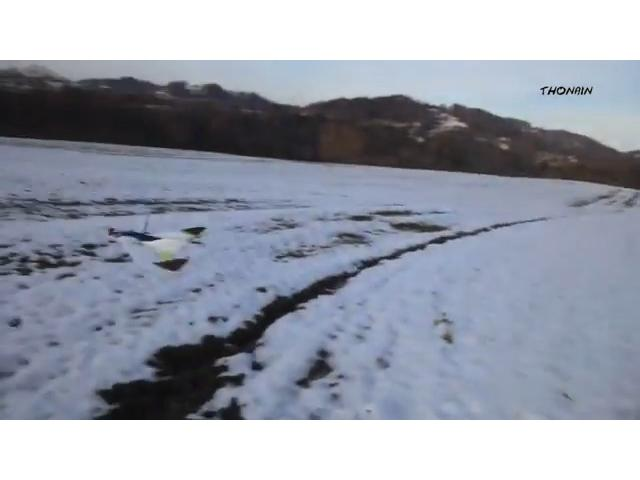Anti-Drone: (84, 203, 212, 285)
